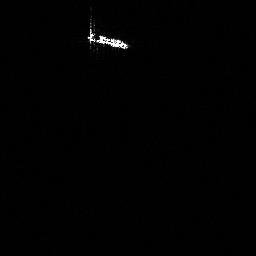ship: (86, 17, 130, 51)
